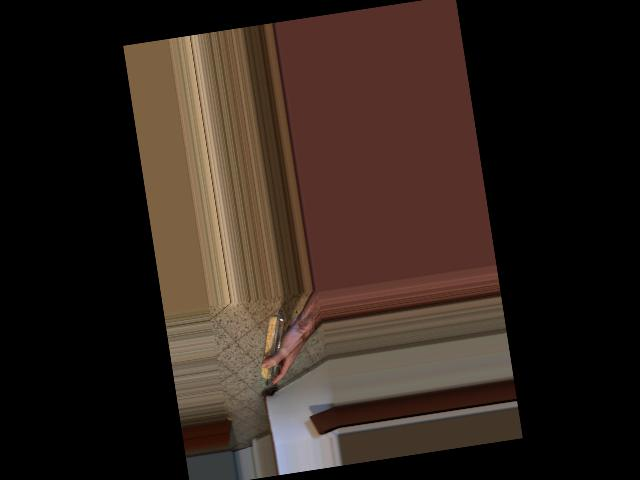cheese: (245, 318, 311, 390)
